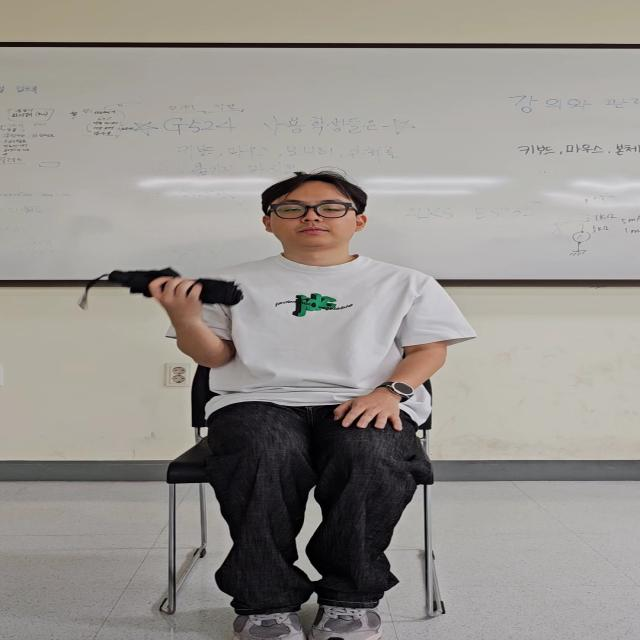curl: (117, 265, 253, 384)
